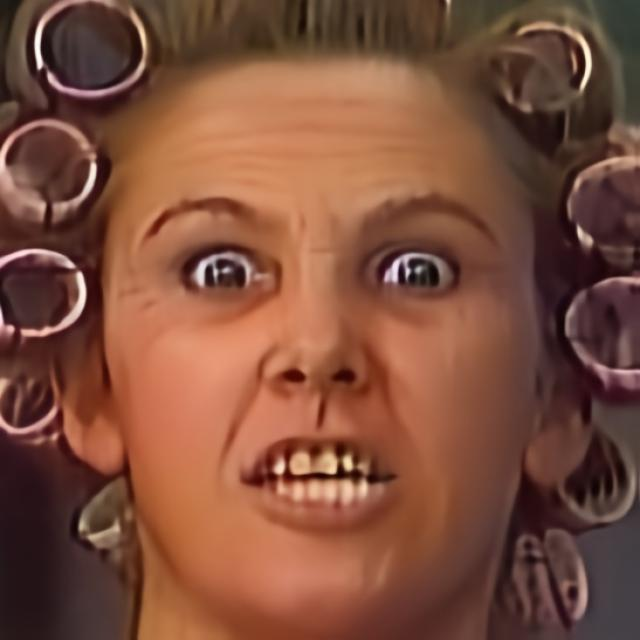fear: (108, 42, 538, 640)
